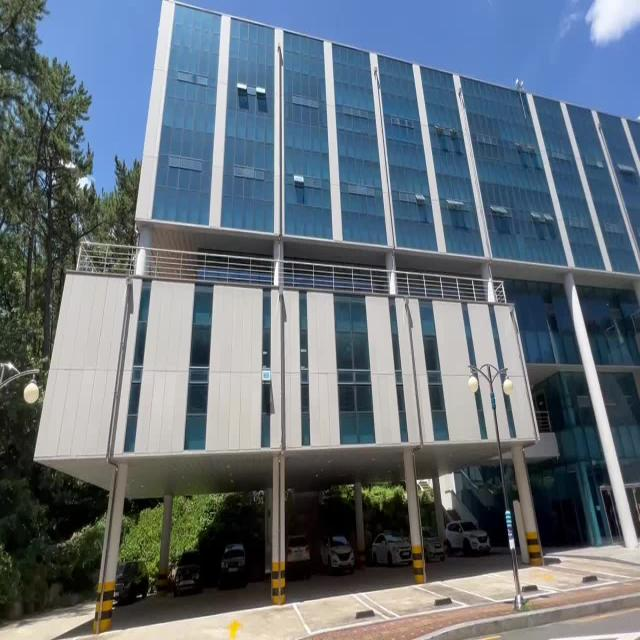building: (75, 4, 640, 558)
